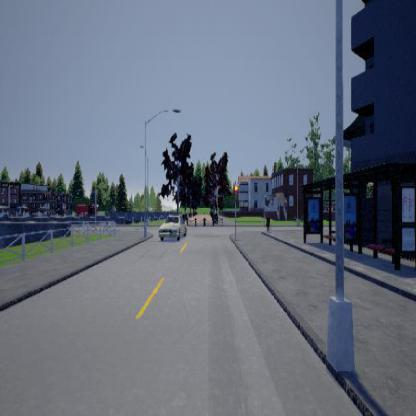traffic_light_red: (234, 182, 237, 204)
vehicle: (158, 214, 186, 239)
